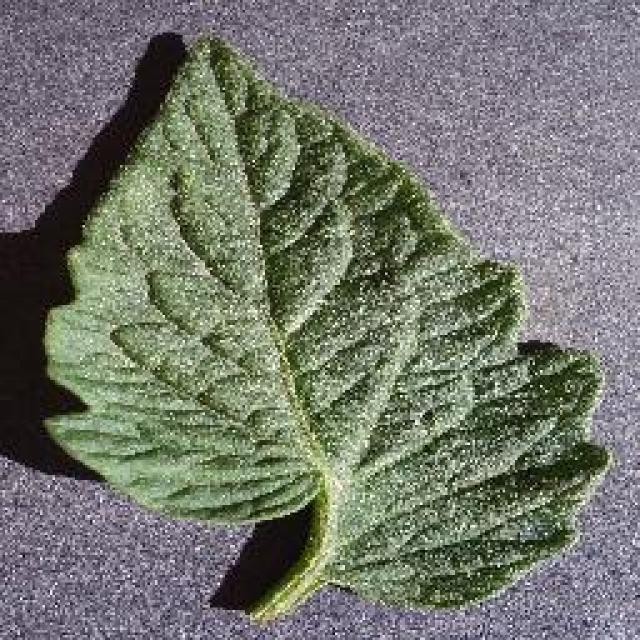Tomato_Healthy: (11, 28, 615, 612)
